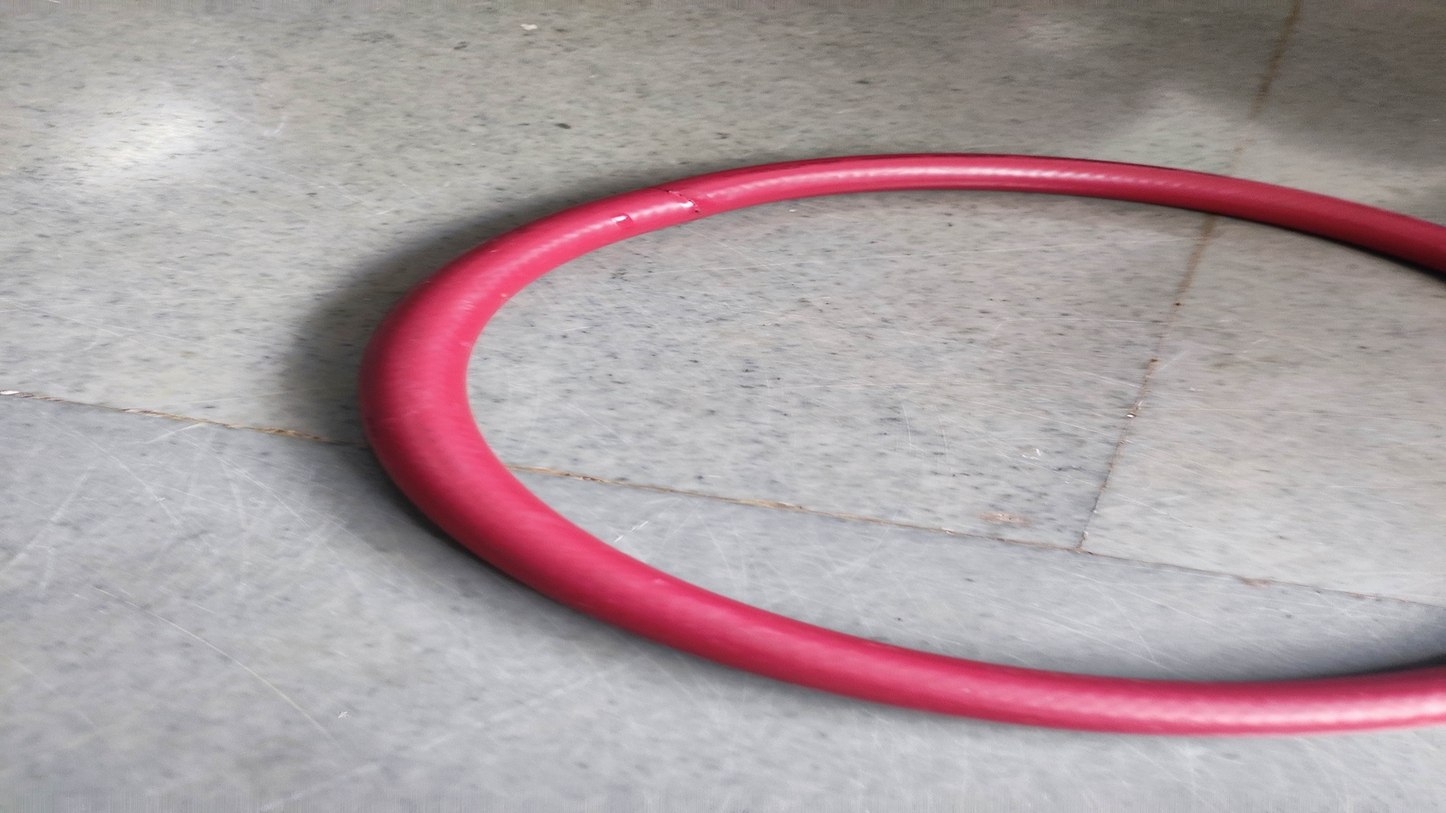Red ring: (367, 155, 1446, 731)
